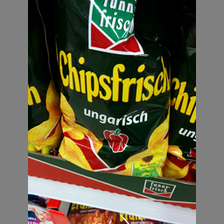chips: (52, 1, 172, 178)
